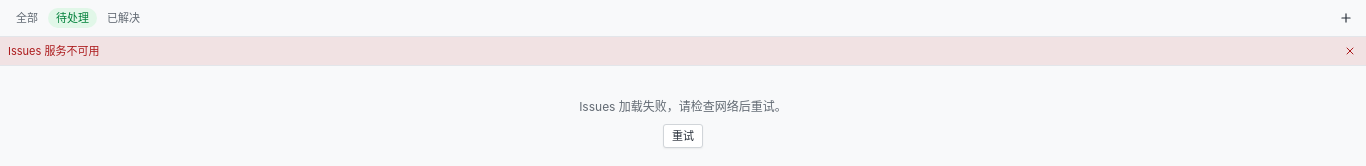
Test: LatexIssues 错误展示与 AI 空内容防护 › 初始 /issues 失败：不卡「加载中…」，显示错误态与重试，重试成功后恢复列表
Expected: the element with test id "latex-issues-load-failed" is shown, [579, 99, 787, 148]
Expected: the message "Issues 服务不可用" is shown, [0, 37, 1365, 66]
Click the button with test id "latex-issues-retry".
click(683, 136)  # box [663, 124, 703, 148]
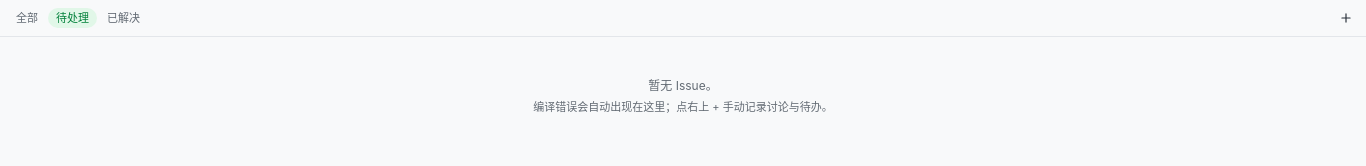
Now the text "暂无 Issue" is shown, box [648, 78, 718, 93]
Now the message "Issues 服务不可用" is gone
